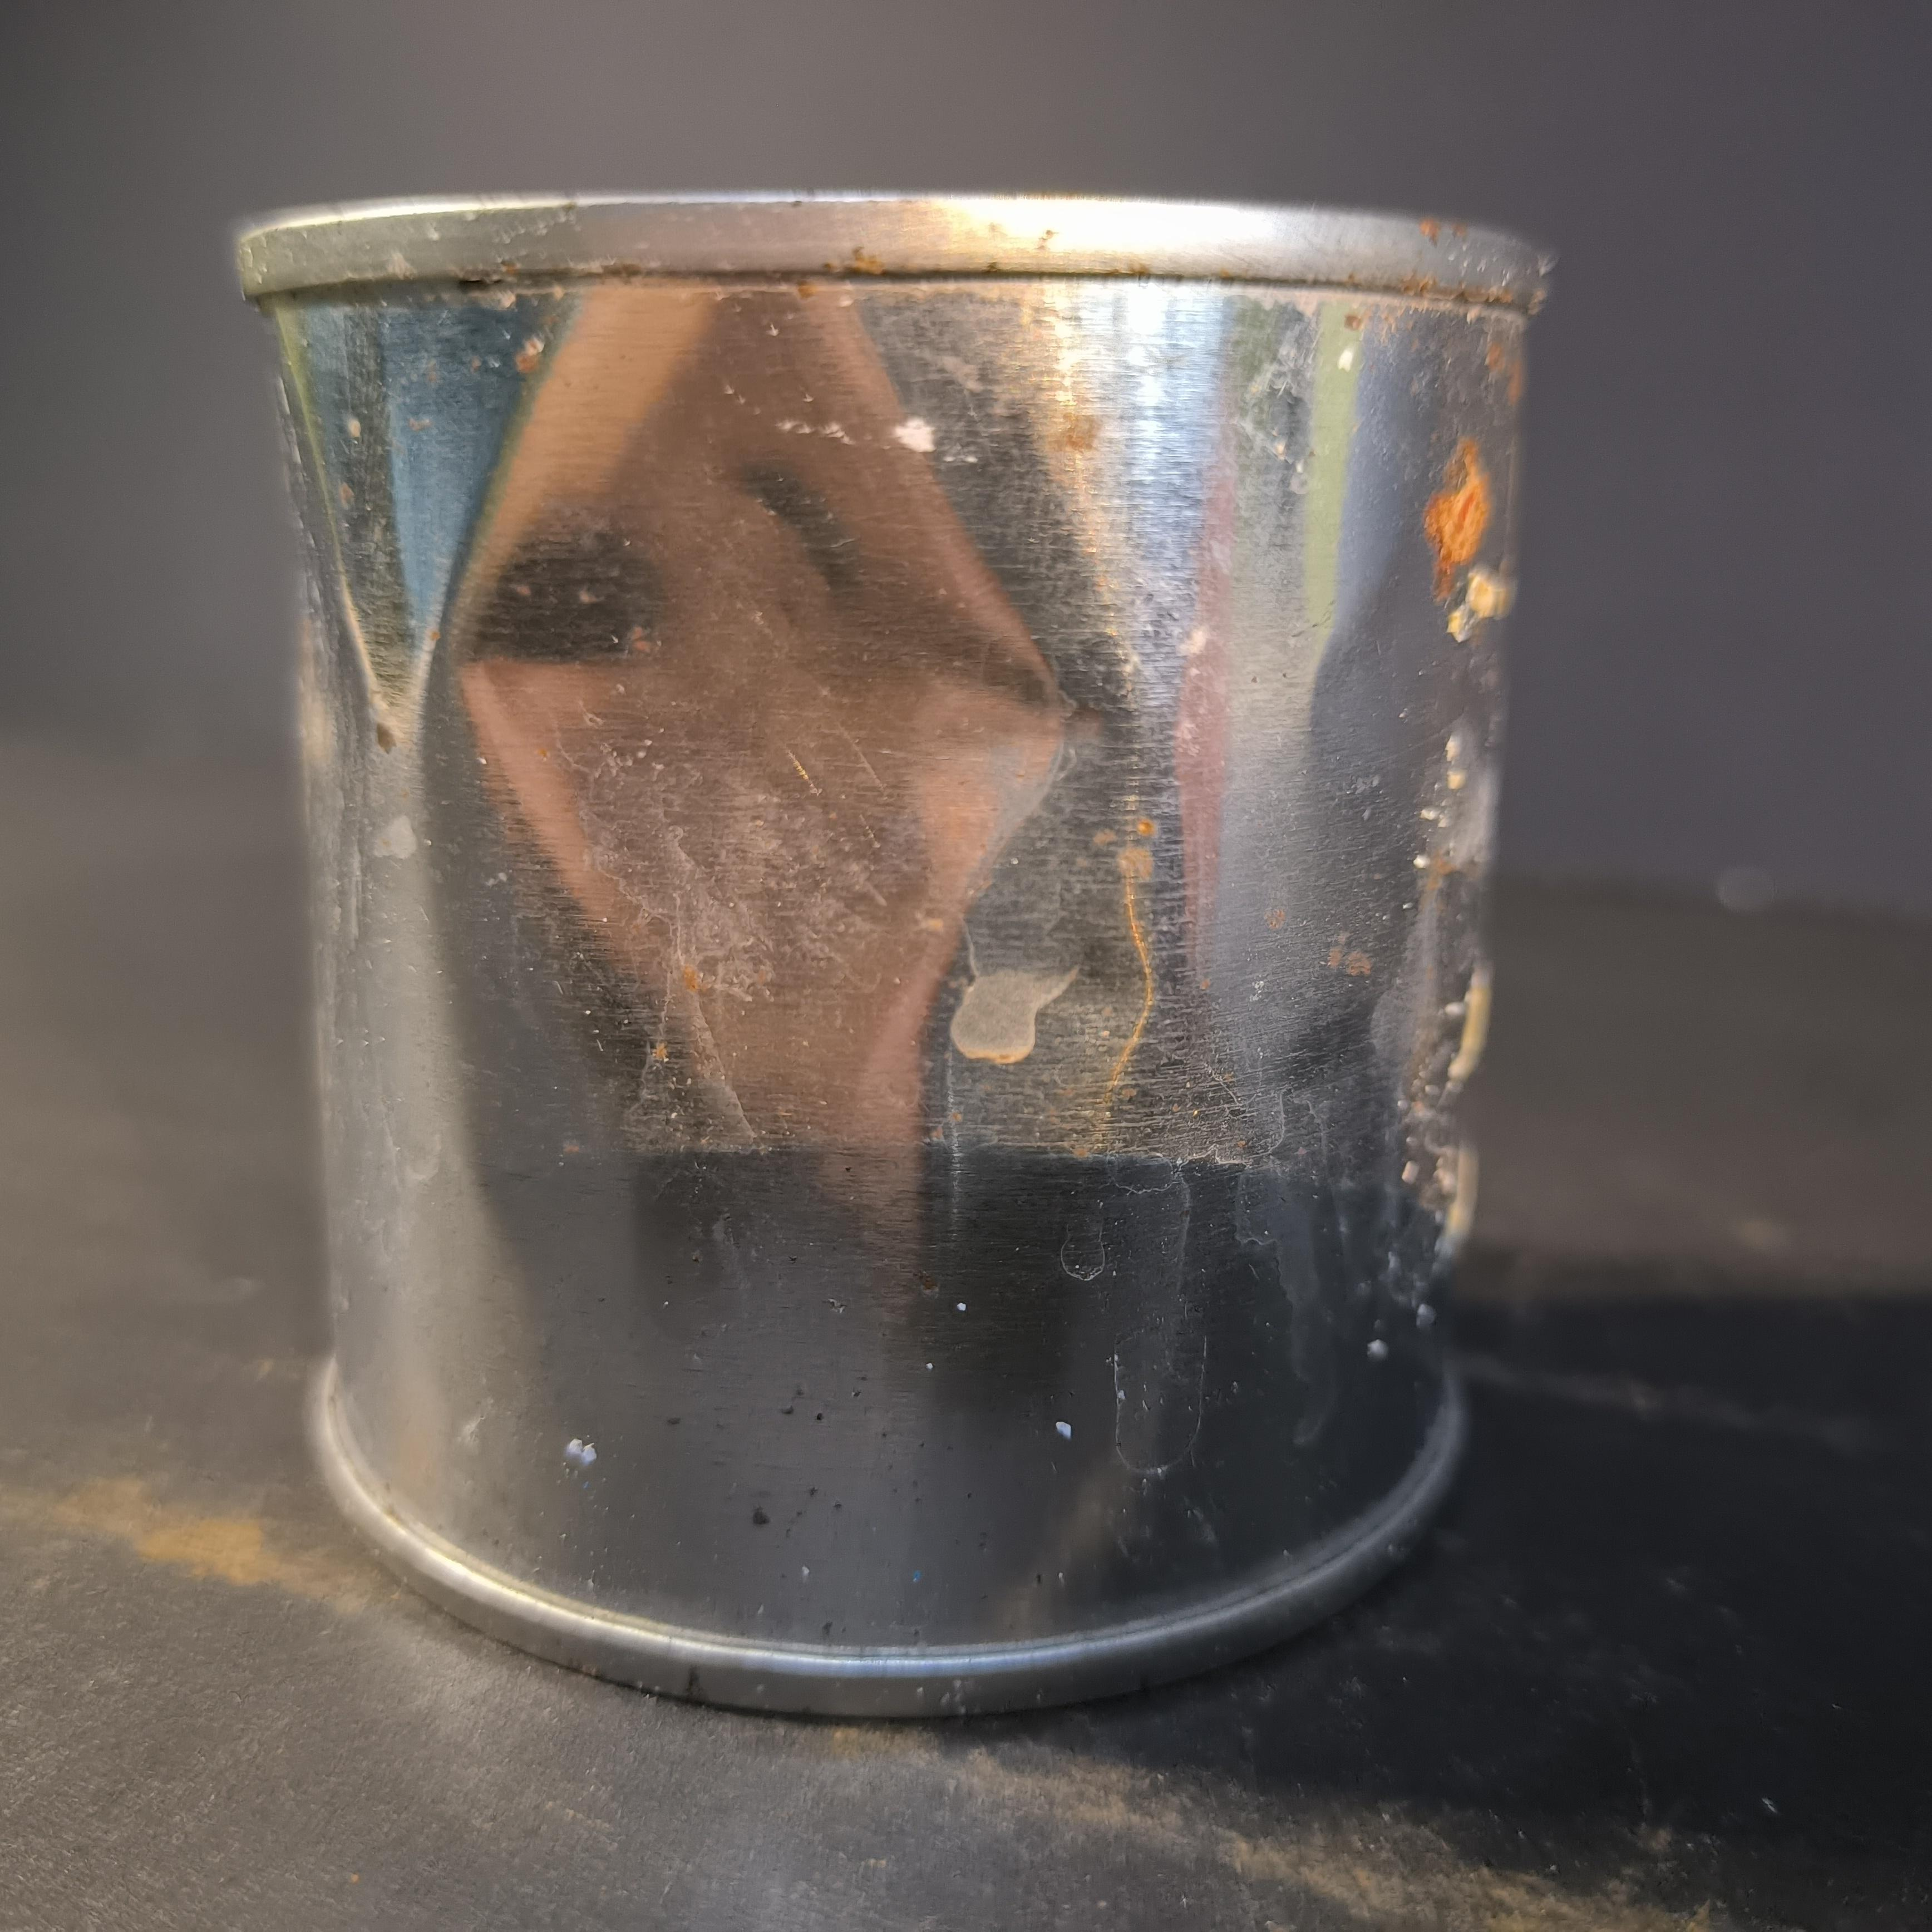Dented: (214, 156, 1575, 1741)
